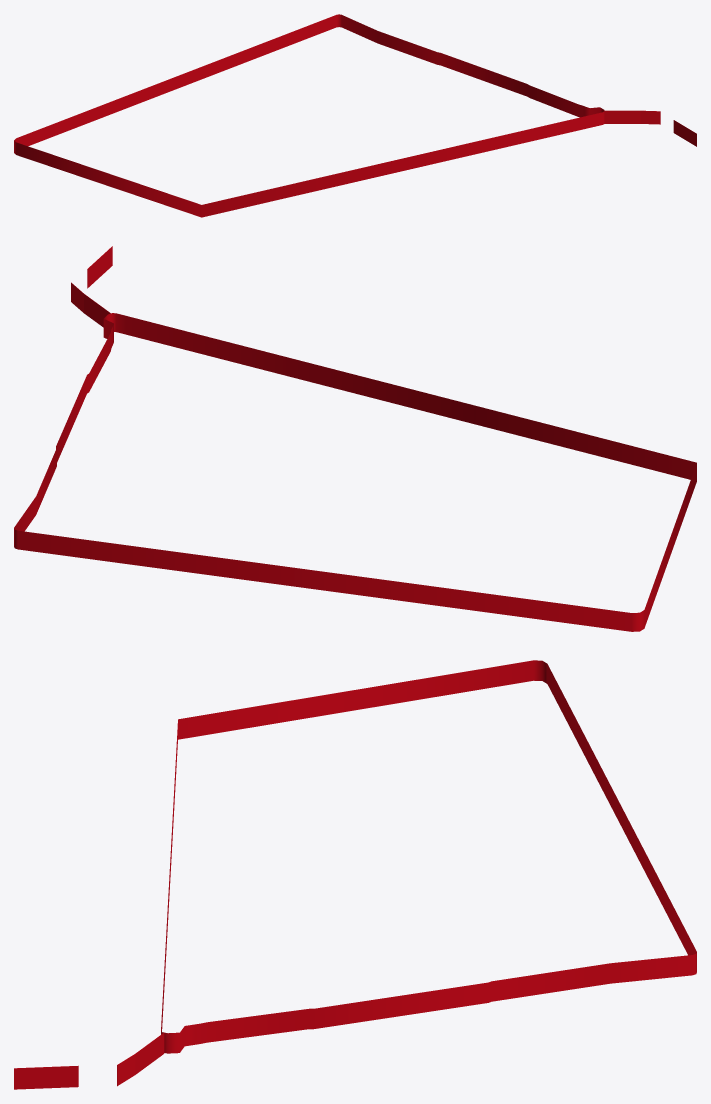
File: Vent barriers.fbx
3 renders of one model, top to bottom at view 1: azimuth 30°, elevation 25°; view 2: azimuth 150°, elevation 25°; view 3: azimuth 270°, elevation 25°, orthographic. The views are drawn at different scales.
Visible parts, largest first — view 1: Plane; view 2: Plane; view 3: Plane.
Part boxes in pixels (x1=…): Plane: x1=14, y1=14, x2=696, y2=217; Plane: x1=14, y1=246, x2=696, y2=631; Plane: x1=14, y1=660, x2=696, y2=1089.
Bounding box in the file's own units: 4059 × 98.46 × 2871.
